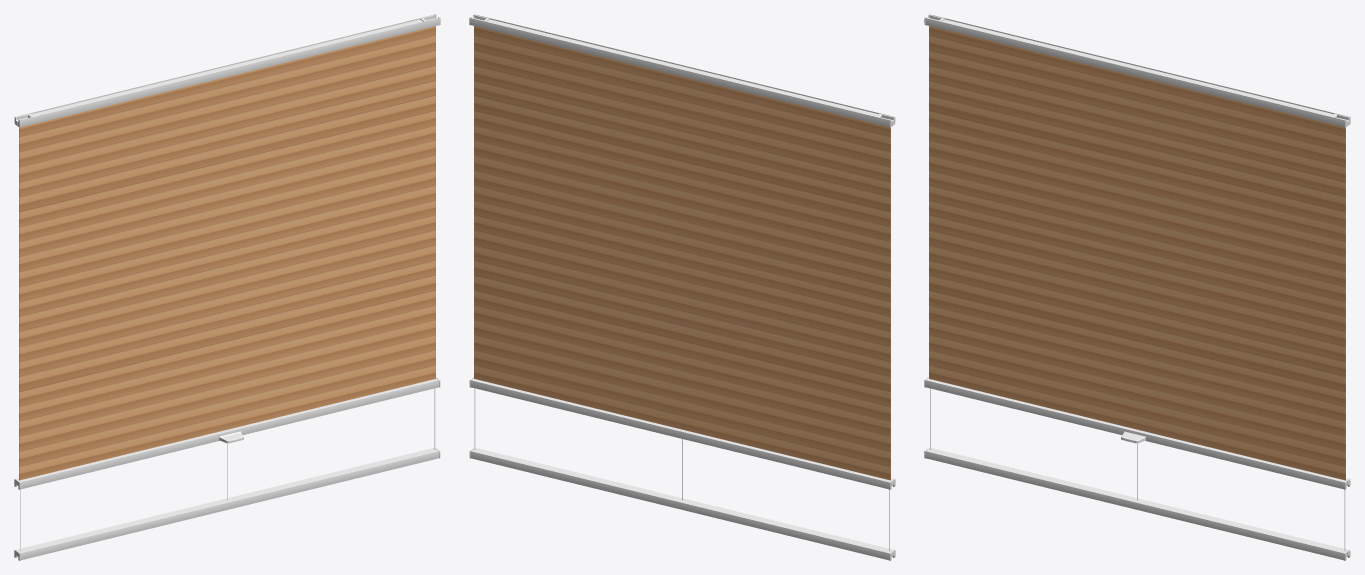
The picture shows the model from 3 angles, left to right: view 1: azimuth 30°, elevation 25°; view 2: azimuth 150°, elevation 25°; view 3: azimuth 330°, elevation 25°; orthographic projection.
Parts seen in each view (by area): view 1: Plane.002, Cube.012, Cube.013, Cube.004; view 2: Plane.002, Cube.012, Cube.013, Cube.004; view 3: Plane.002, Cube.012, Cube.013, Cube.004.
Part boxes in pixels (x1,y1,x2,y2): Plane.002: [19, 26, 435, 480]; Cube.012: [16, 448, 438, 560]; Cube.013: [16, 14, 439, 126]; Cube.004: [16, 378, 438, 489]; Plane.002: [474, 26, 890, 480]; Cube.012: [471, 448, 893, 560]; Cube.013: [470, 14, 893, 126]; Cube.004: [471, 378, 893, 489]; Plane.002: [929, 26, 1345, 480]; Cube.012: [925, 448, 1348, 560]; Cube.013: [926, 14, 1348, 126]; Cube.004: [925, 378, 1348, 489].
Bounding box in the file's own units: 0.9998 × 0.9998 × 0.0464.
4 materials, 1 textured.
